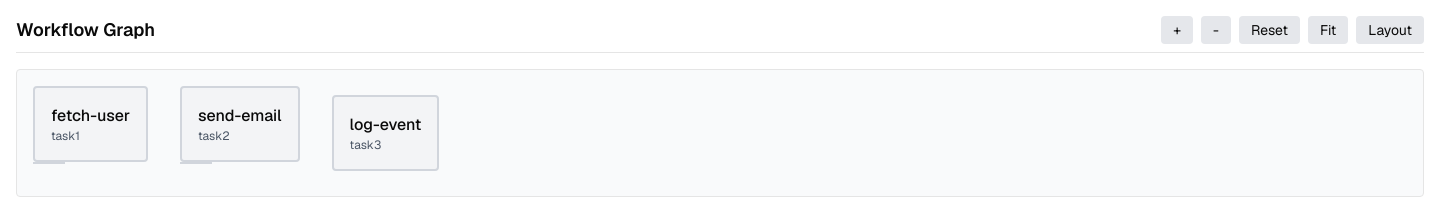
Test: WorkflowGraphDebugger › should support layout options
The image size is (1440, 214).
Click the button "Layout".
click(1390, 30)  # box [1356, 16, 1424, 44]
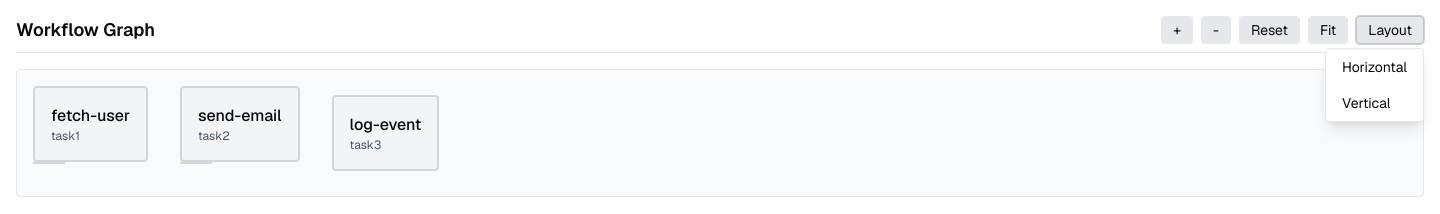
Now the button "Horizontal" is shown, box [1326, 49, 1423, 85]
Now the button "Vertical" is shown, box [1326, 85, 1423, 121]
